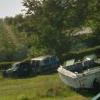Car: (3, 55, 46, 81)
